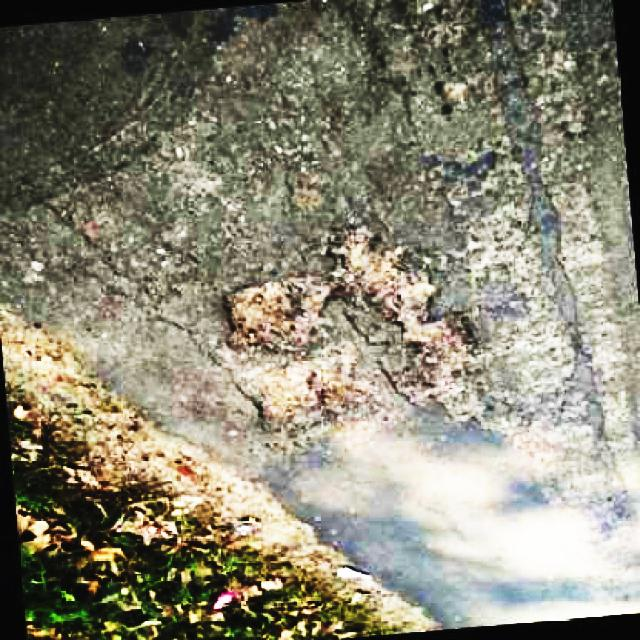pothole: (334, 222, 437, 340), (209, 276, 308, 350)
